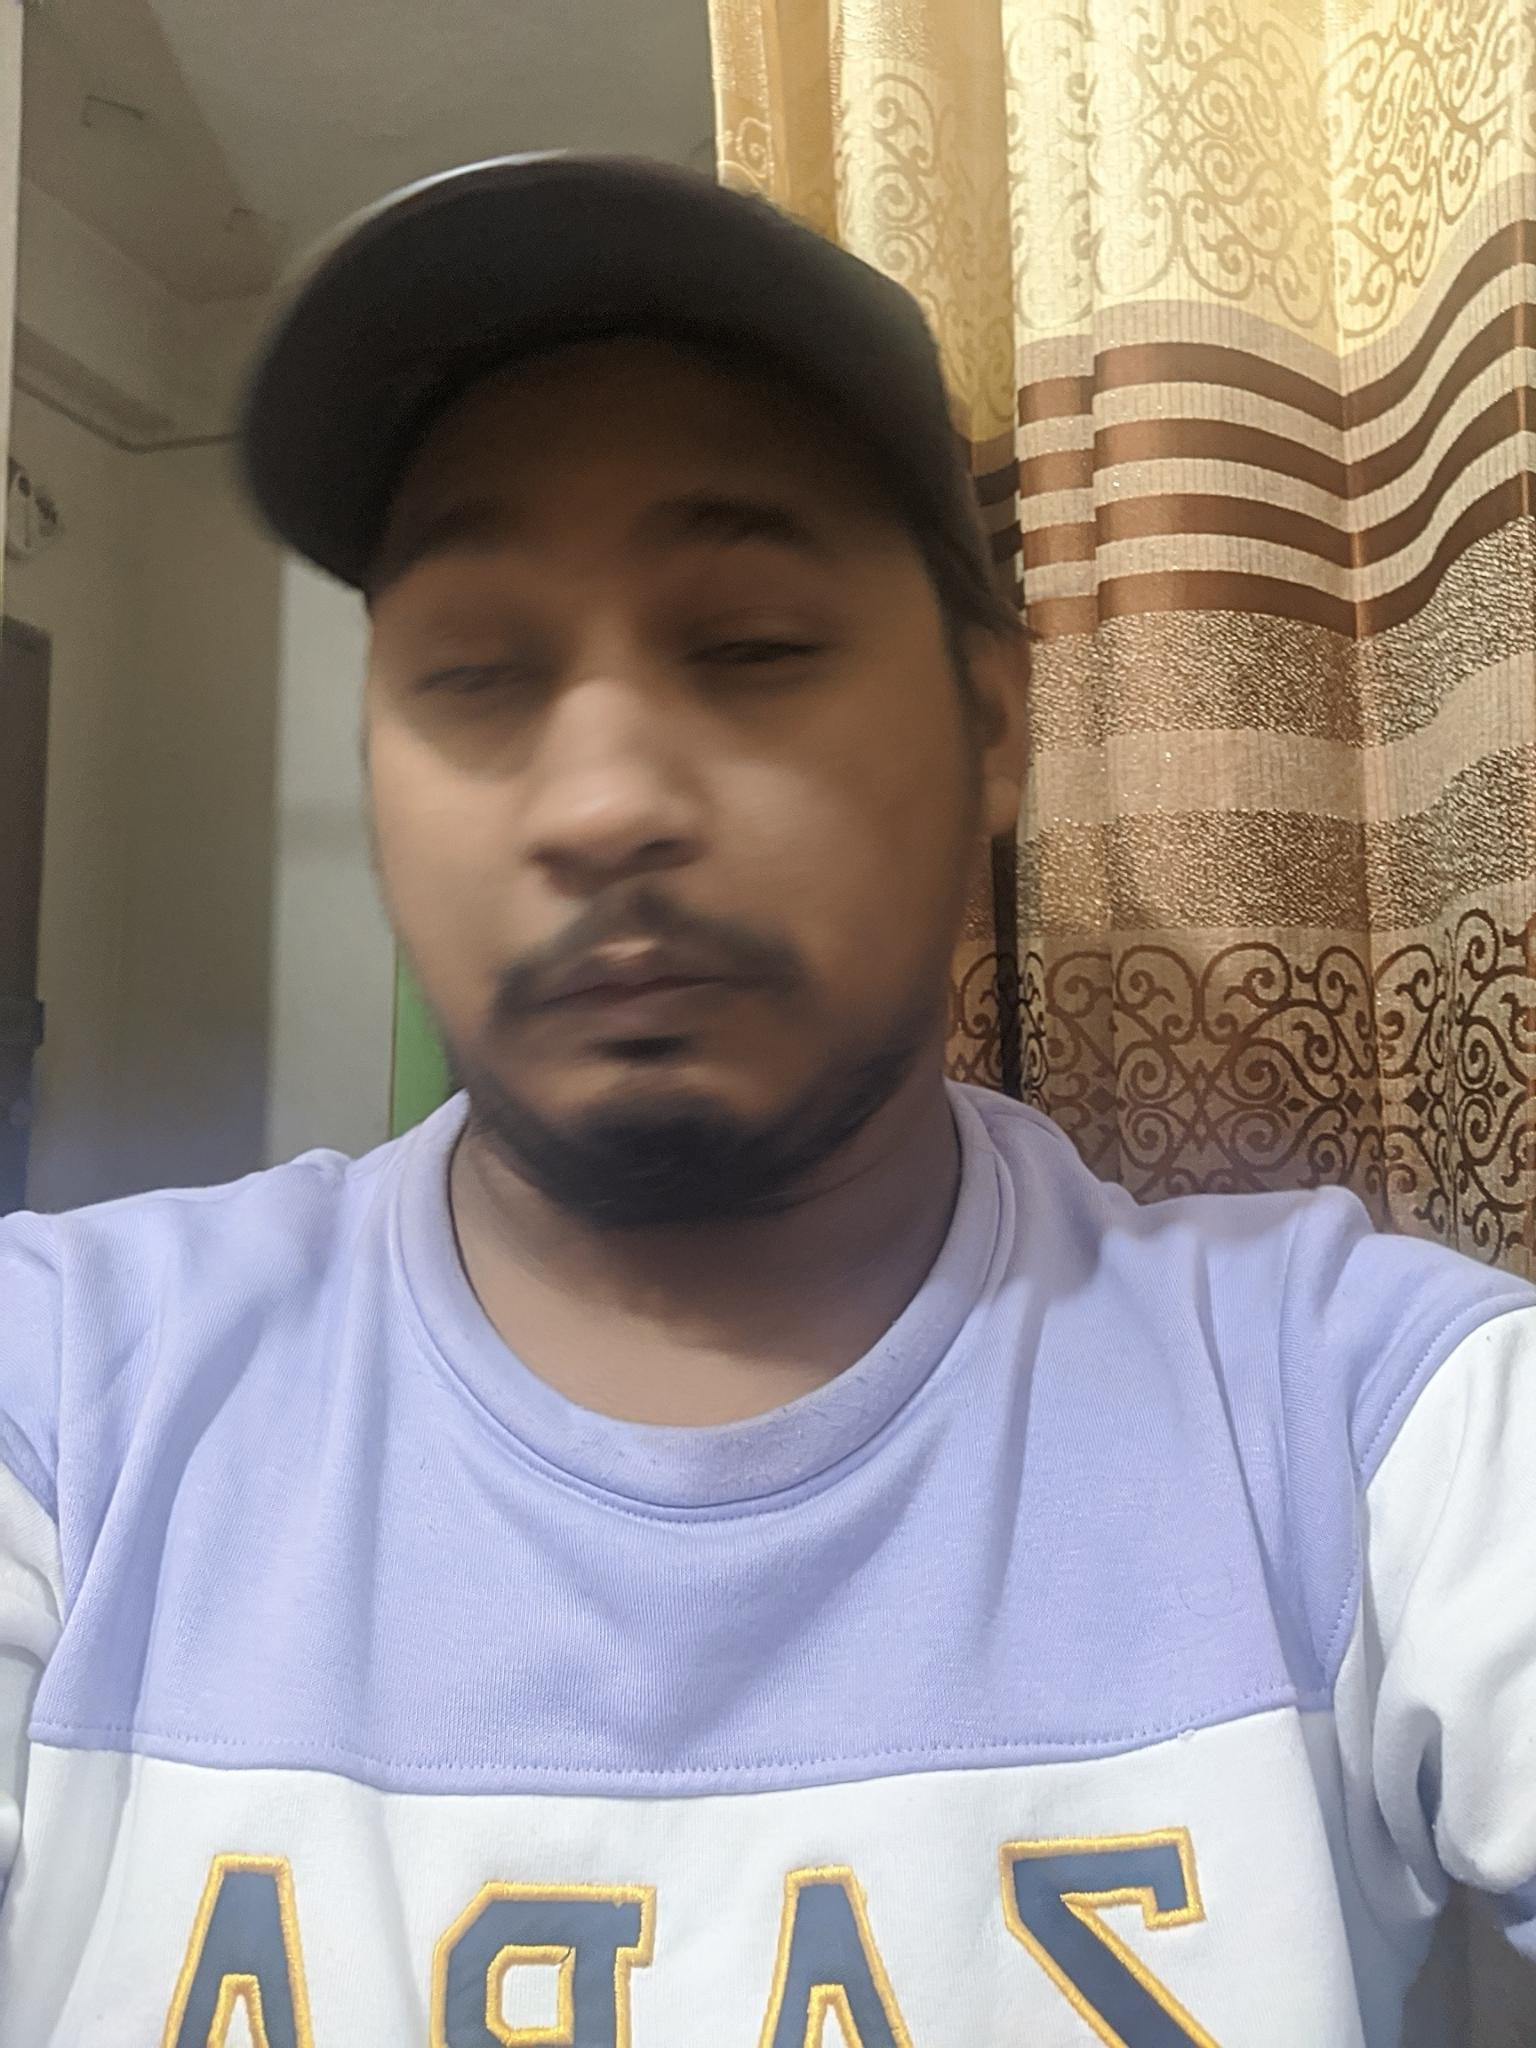Disgust: (344, 387, 931, 1187)
